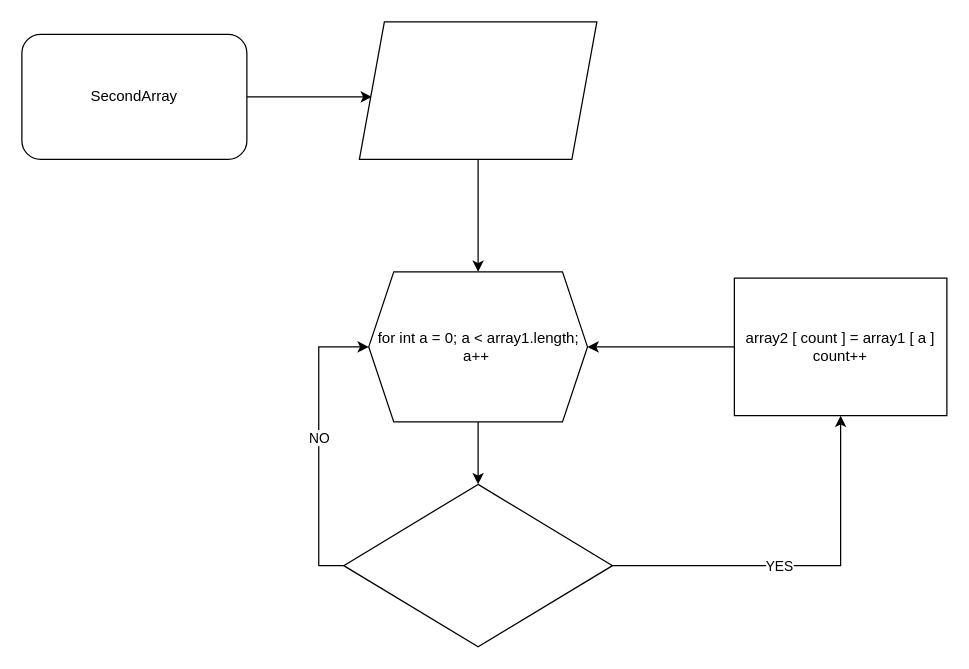
Image size: 969x669. Some labels were removed from this diagram. The shapes that lost their labels are listed below. From the top down, each one's centre as x and y in pixels, then its label:
At (477,90): "Int count = 0 string[ ]array1 string[ ] array2".
At (477,565): "if array1[ a ].legth <= 3".
